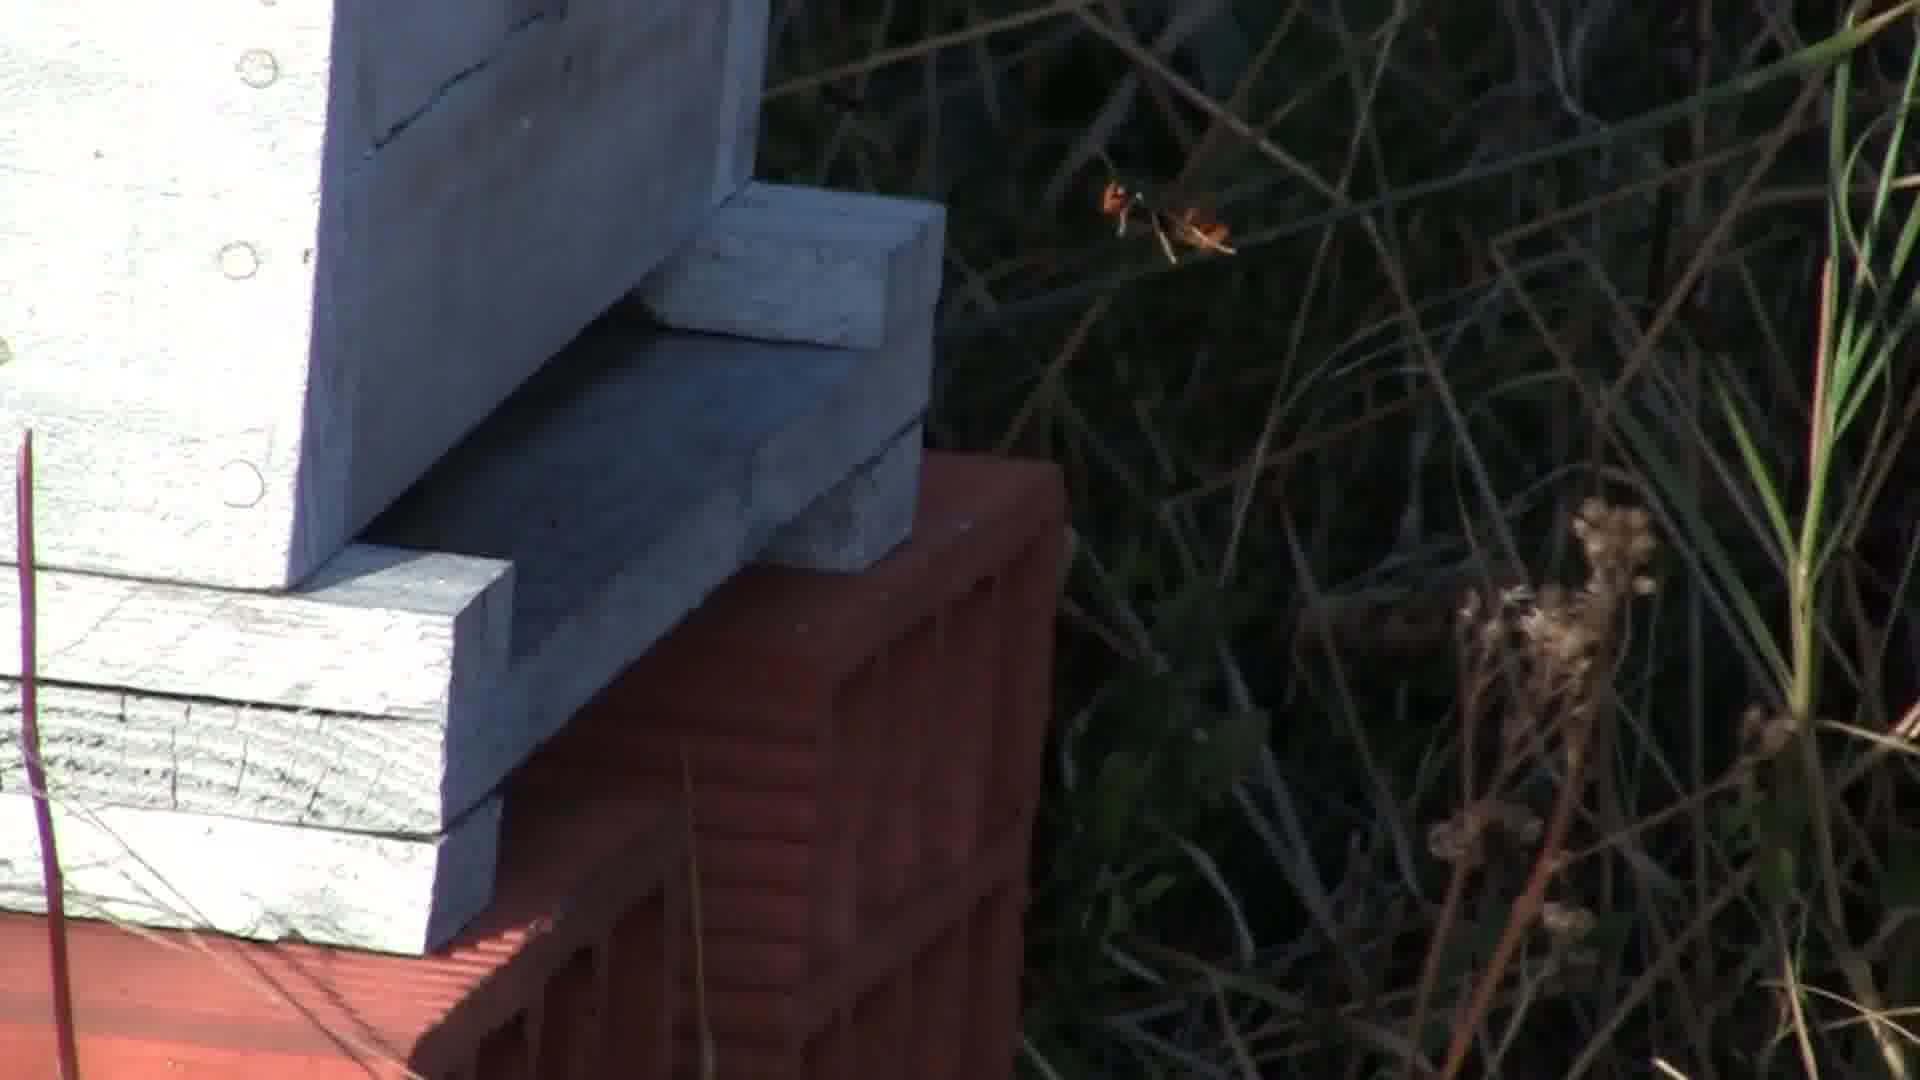hornet: (1104, 158, 1238, 276)
